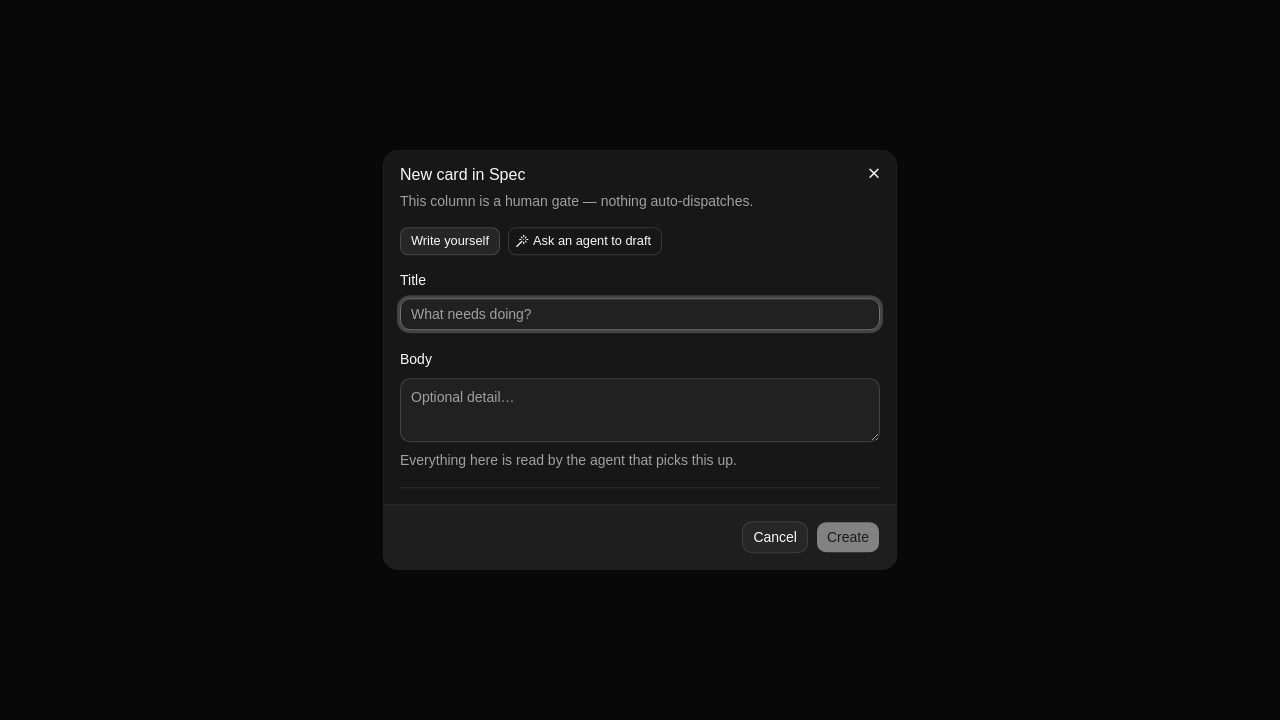
Test: NewTicketDialog — draft mode › toggles to the draft controls
Click the radio button "Ask an agent to draft".
click(585, 241)  # box [508,227,662,255]
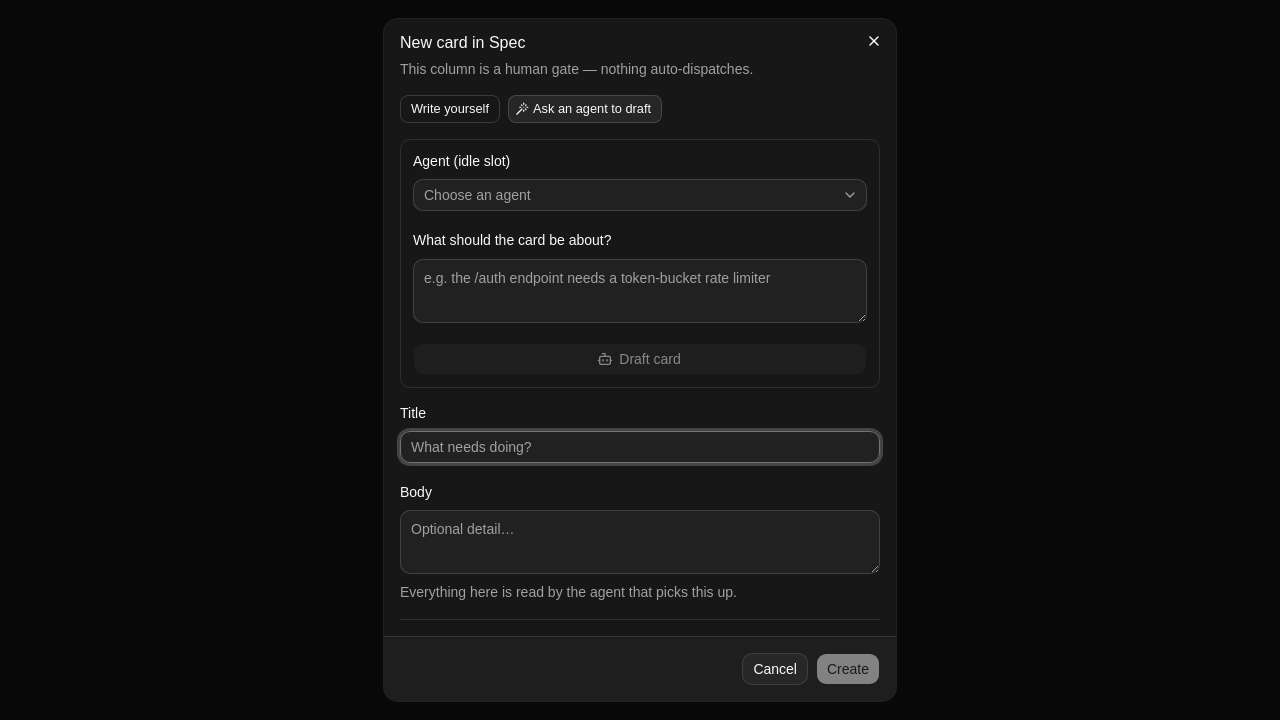
Check: the dropdown named "agent (idle slot)" is shown, box [413,179,867,211]
Check: the text box labelled "What should the card be about?" is shown, box [413,258,867,322]
